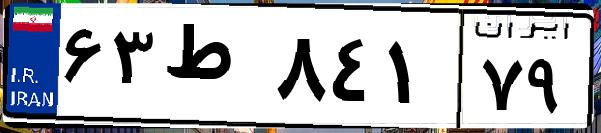1: (385, 28, 445, 110)
3: (110, 28, 158, 98)
4: (330, 28, 385, 110)
6: (57, 26, 110, 100)
7: (475, 38, 525, 113)
8: (270, 28, 330, 110)
9: (525, 38, 570, 115)
ط: (158, 20, 270, 120)
